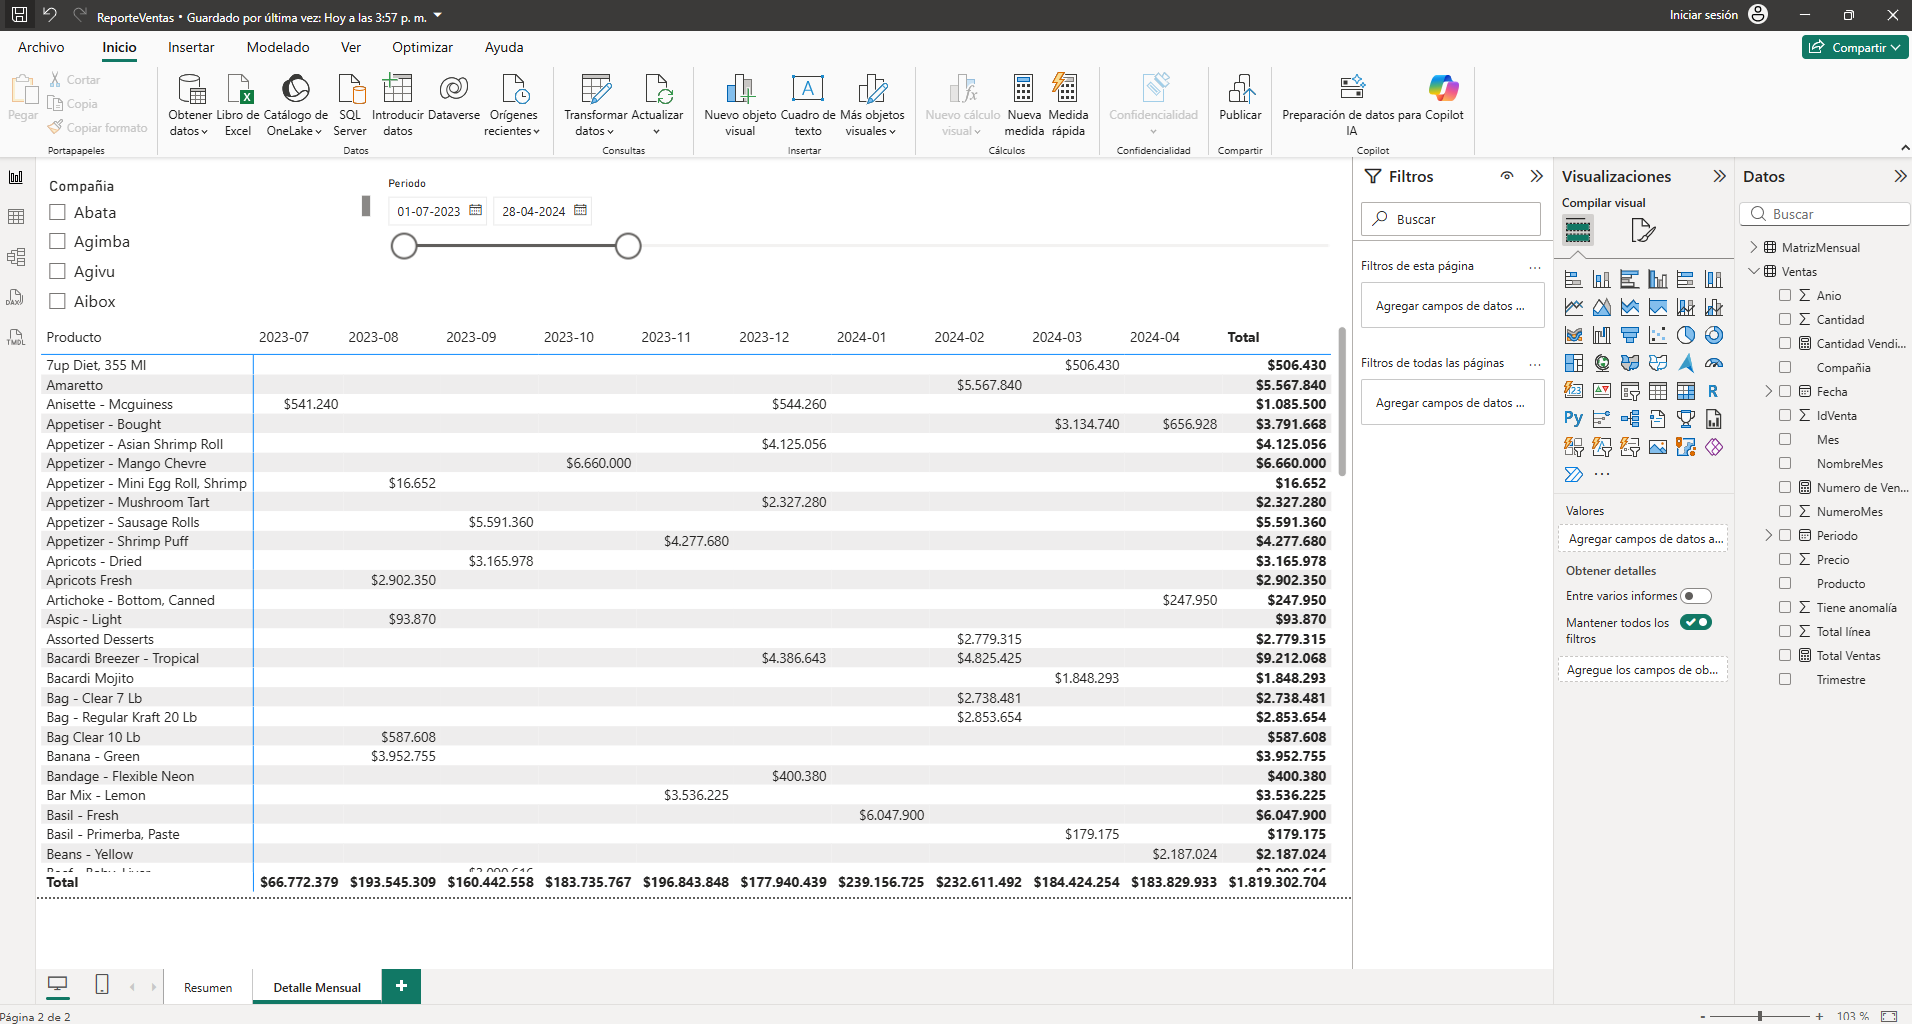

The dashboard page shown, as its layout file describes it:
{"tool":"powerbi","page":{"name":"Detalle Mensual","canvas":[1280,720],"ordinal":1},"visuals":[{"type":"pivotTable","fields":{"Rows":["Ventas.Producto"],"Columns":["Ventas.AnioMes"],"Values":["Ventas.Total Ventas"]},"box":[0,159.5,1280,560.2],"z":0},{"type":"slicer","fields":{"Values":["Ventas.Compania"]},"box":[0,14.6,329.7,144.9],"z":1},{"type":"slicer","fields":{"Values":["Ventas.Periodo"]},"box":[329.7,14.6,950.3,144.9],"z":2}]}

Visuals, with their boxes on the page's 1280x720 design canvas (x1, y1, x2, y2). These are canvas units, not pixel positions in the 1912x1024 screenshot, which may show the page scaled, cropped or inside an application window:
pivotTable - Ventas.Producto x Ventas.AnioMes: pyautogui.locateOnScreen(0, 160, 1280, 720)
slicer - Ventas.Compania: pyautogui.locateOnScreen(0, 15, 330, 160)
slicer - Ventas.Periodo: pyautogui.locateOnScreen(330, 15, 1280, 160)
